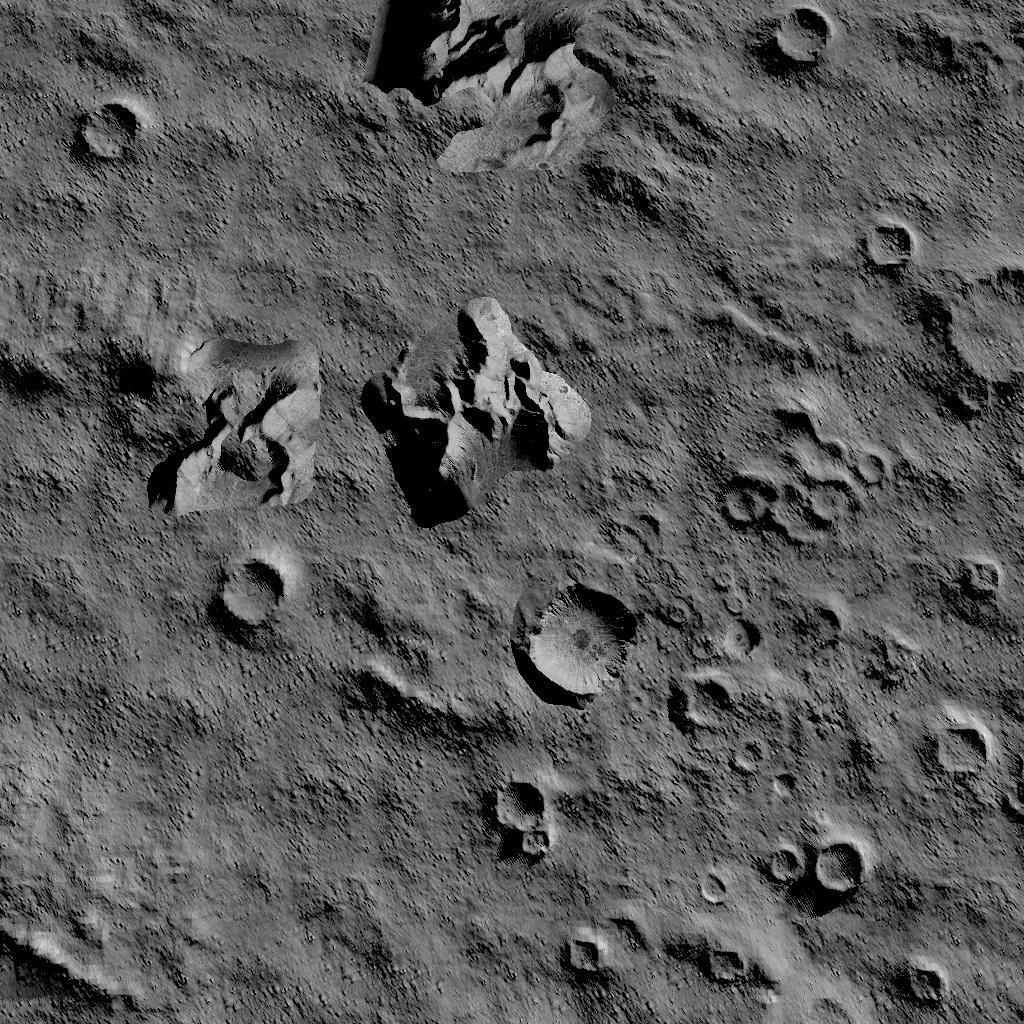Boulders: (0, 262, 326, 520), (371, 0, 715, 238), (358, 290, 596, 528), (331, 555, 503, 760), (0, 890, 150, 1024), (898, 0, 1024, 88)
Crater: (716, 402, 890, 542), (518, 588, 636, 702), (948, 260, 1024, 428), (764, 828, 868, 902), (484, 775, 556, 868), (216, 552, 290, 632), (68, 98, 148, 168), (761, 0, 835, 73), (928, 715, 998, 780), (671, 675, 743, 738), (866, 210, 920, 275), (550, 930, 610, 983), (898, 960, 948, 1003), (708, 938, 750, 982)
Plan surface: (0, 532, 206, 876), (221, 772, 473, 1024), (170, 0, 356, 248)
